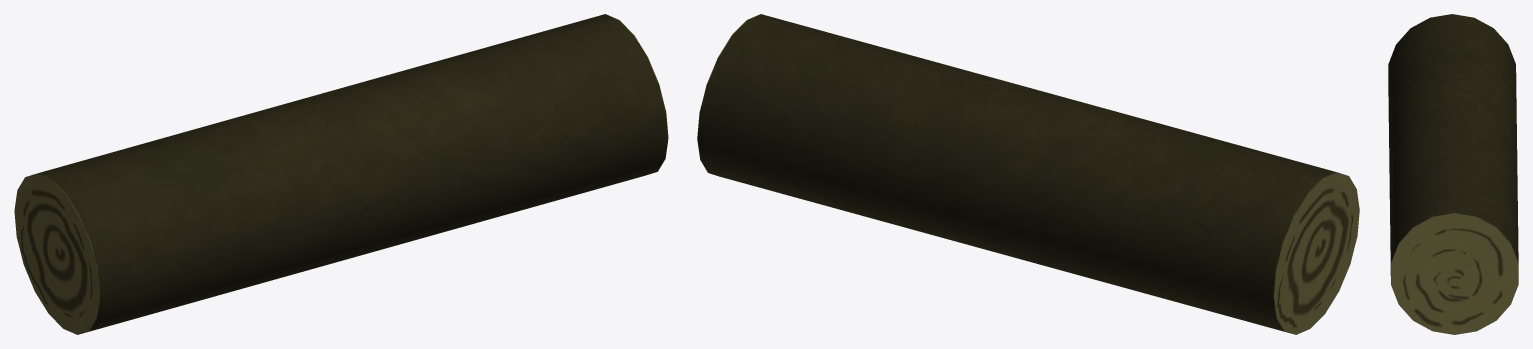
The model's file is log_naughty_3.FBX.
The picture shows the model from 3 angles, left to right: view 1: azimuth 30°, elevation 25°; view 2: azimuth 150°, elevation 25°; view 3: azimuth 270°, elevation 25°; orthographic projection. The views are drawn at different scales.
Visible parts, largest first — view 1: log_naughty_1; view 2: log_naughty_1; view 3: log_naughty_1.
Boxes of the visible parts, bbox=[...] form: log_naughty_1: bbox=[14, 14, 668, 334]; log_naughty_1: bbox=[697, 14, 1359, 334]; log_naughty_1: bbox=[1388, 14, 1518, 334].
Size of the model in its own units: 27.46 by 6.92 by 7.72.
